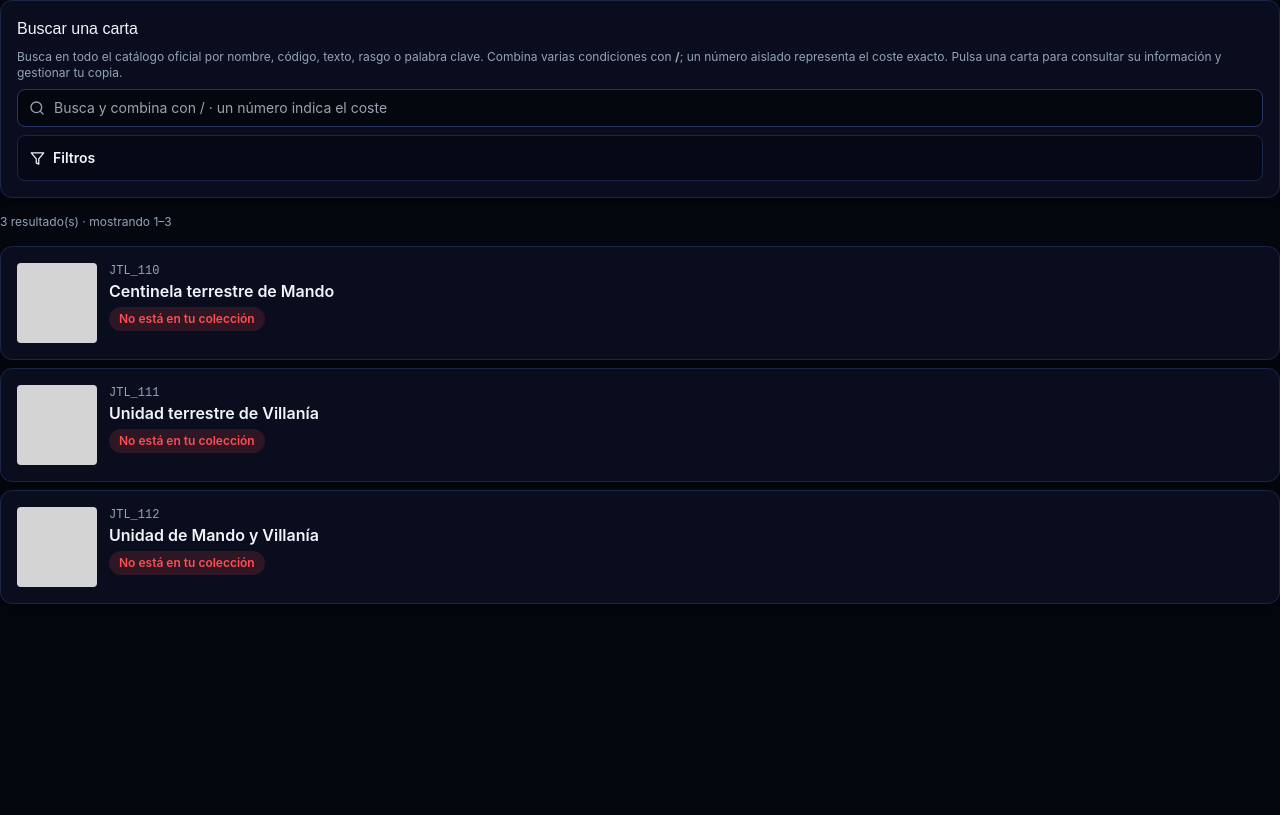
it: Buscar cartas › exige simultáneamente todos los aspectos seleccionados
Expected: the text "3 resultado(s) · mostrando 1–3" is shown, left=0, top=214, right=172, bottom=229
Click the heading "Filtros" at (63, 158), box left=30, top=149, right=95, bottom=166
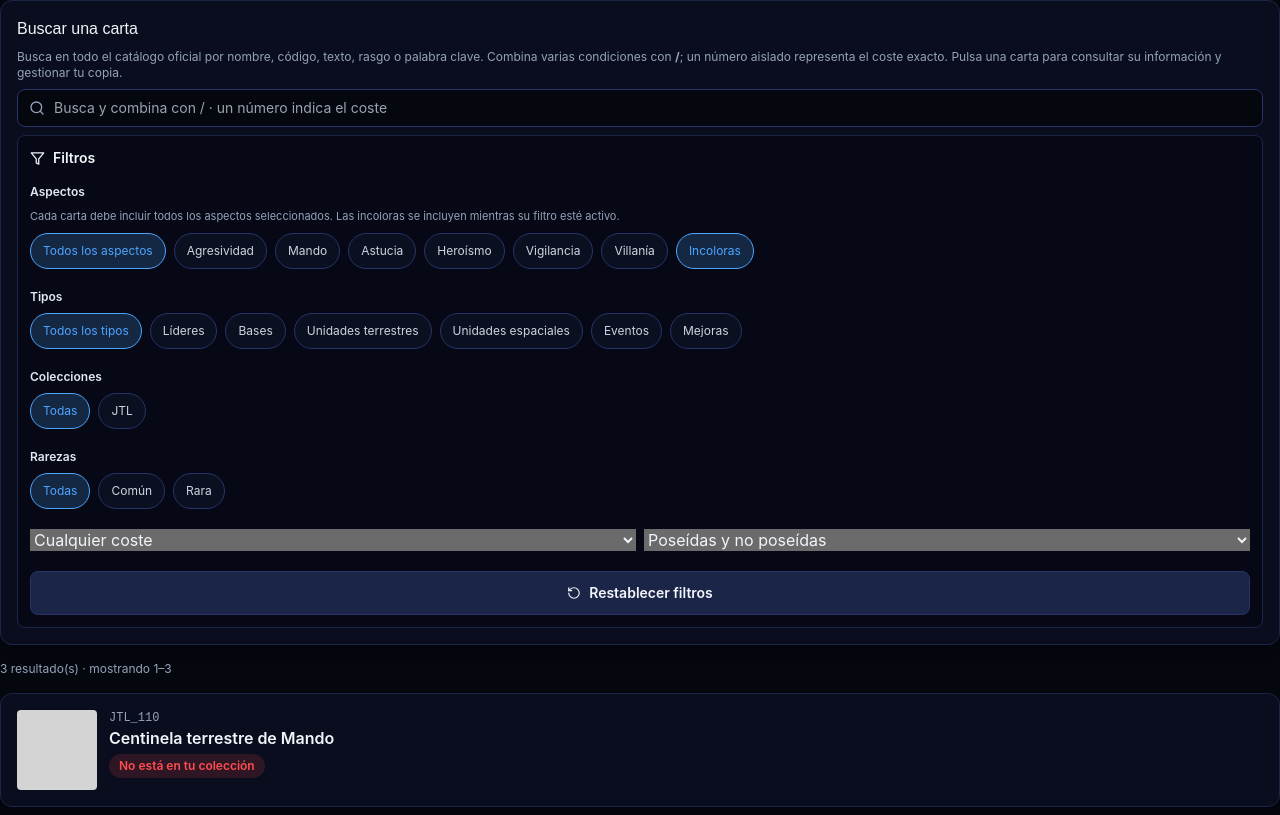
Click the button "Mando" at (308, 250), box left=275, top=232, right=340, bottom=268
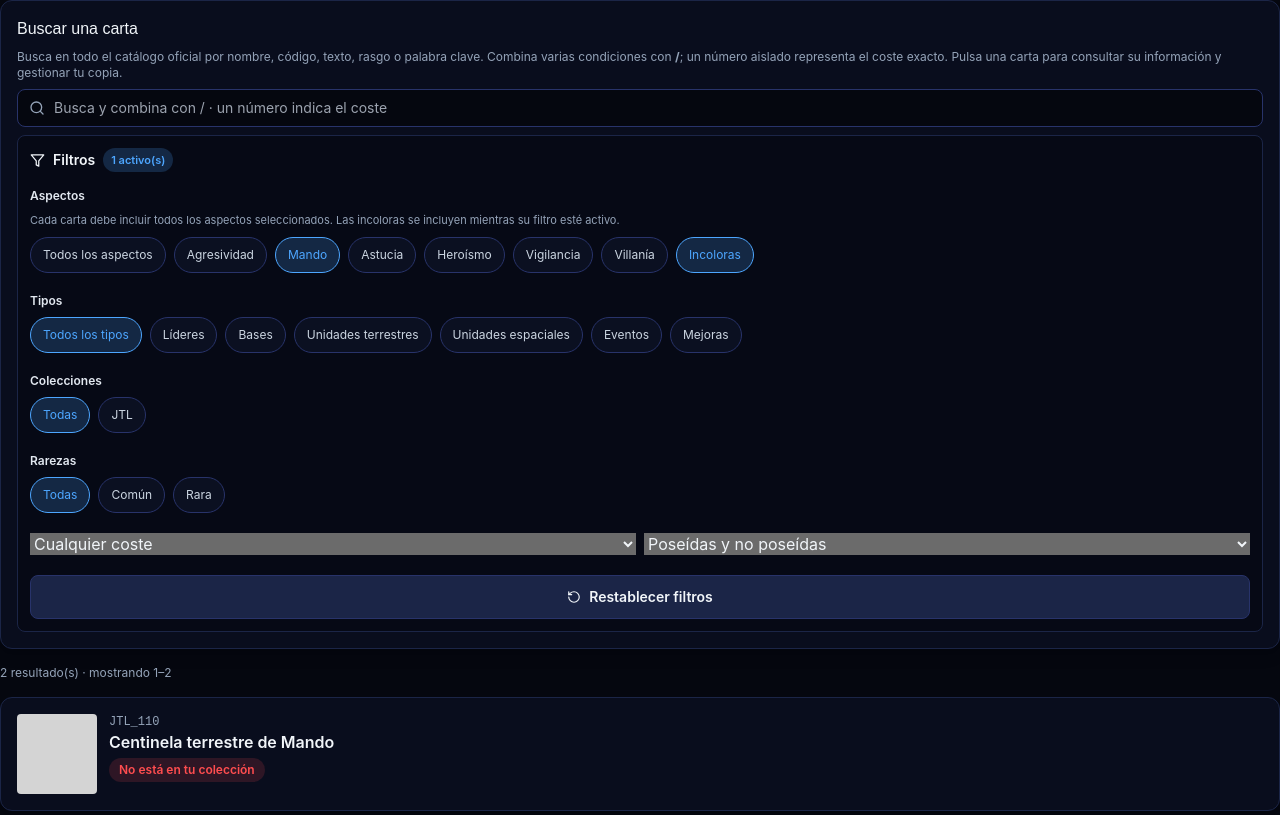
Result: the text "2 resultado(s) · mostrando 1–2" is shown at left=0, top=664, right=172, bottom=680
Click the button "Villanía" at (635, 254), box left=601, top=236, right=668, bottom=272
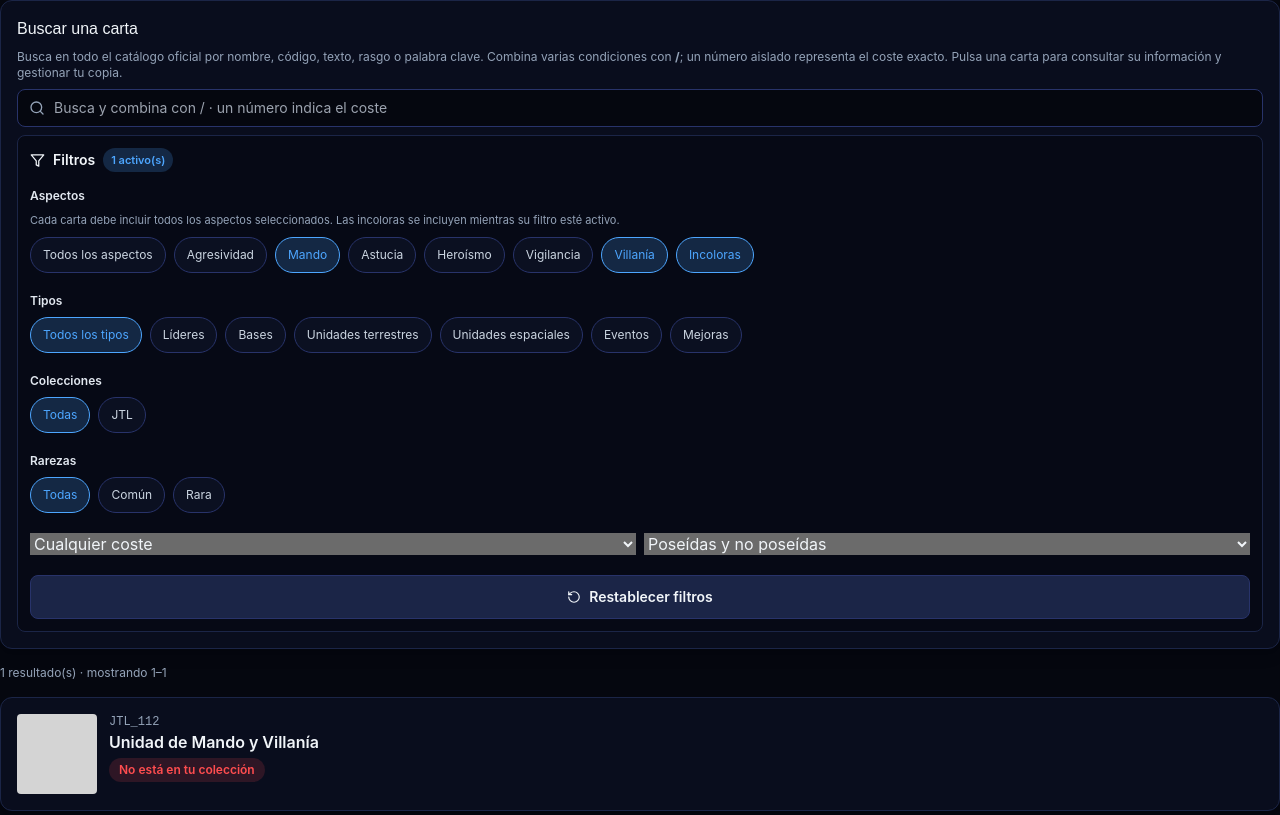
Expected: the text "Unidad de Mando y Villanía" is shown, left=109, top=732, right=319, bottom=752
Result: the text "1 resultado(s) · mostrando 1–1" is shown at left=0, top=664, right=167, bottom=680
Result: the button "Centinela terrestre de Mando" is gone
